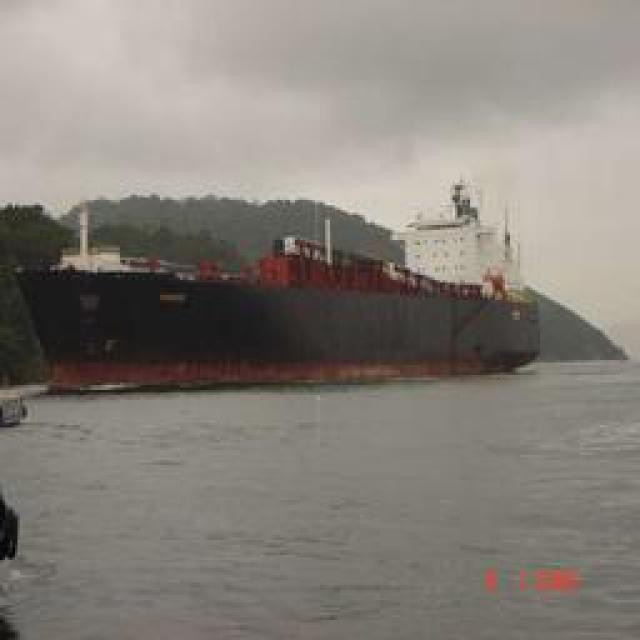Ship: (27, 190, 537, 395)
